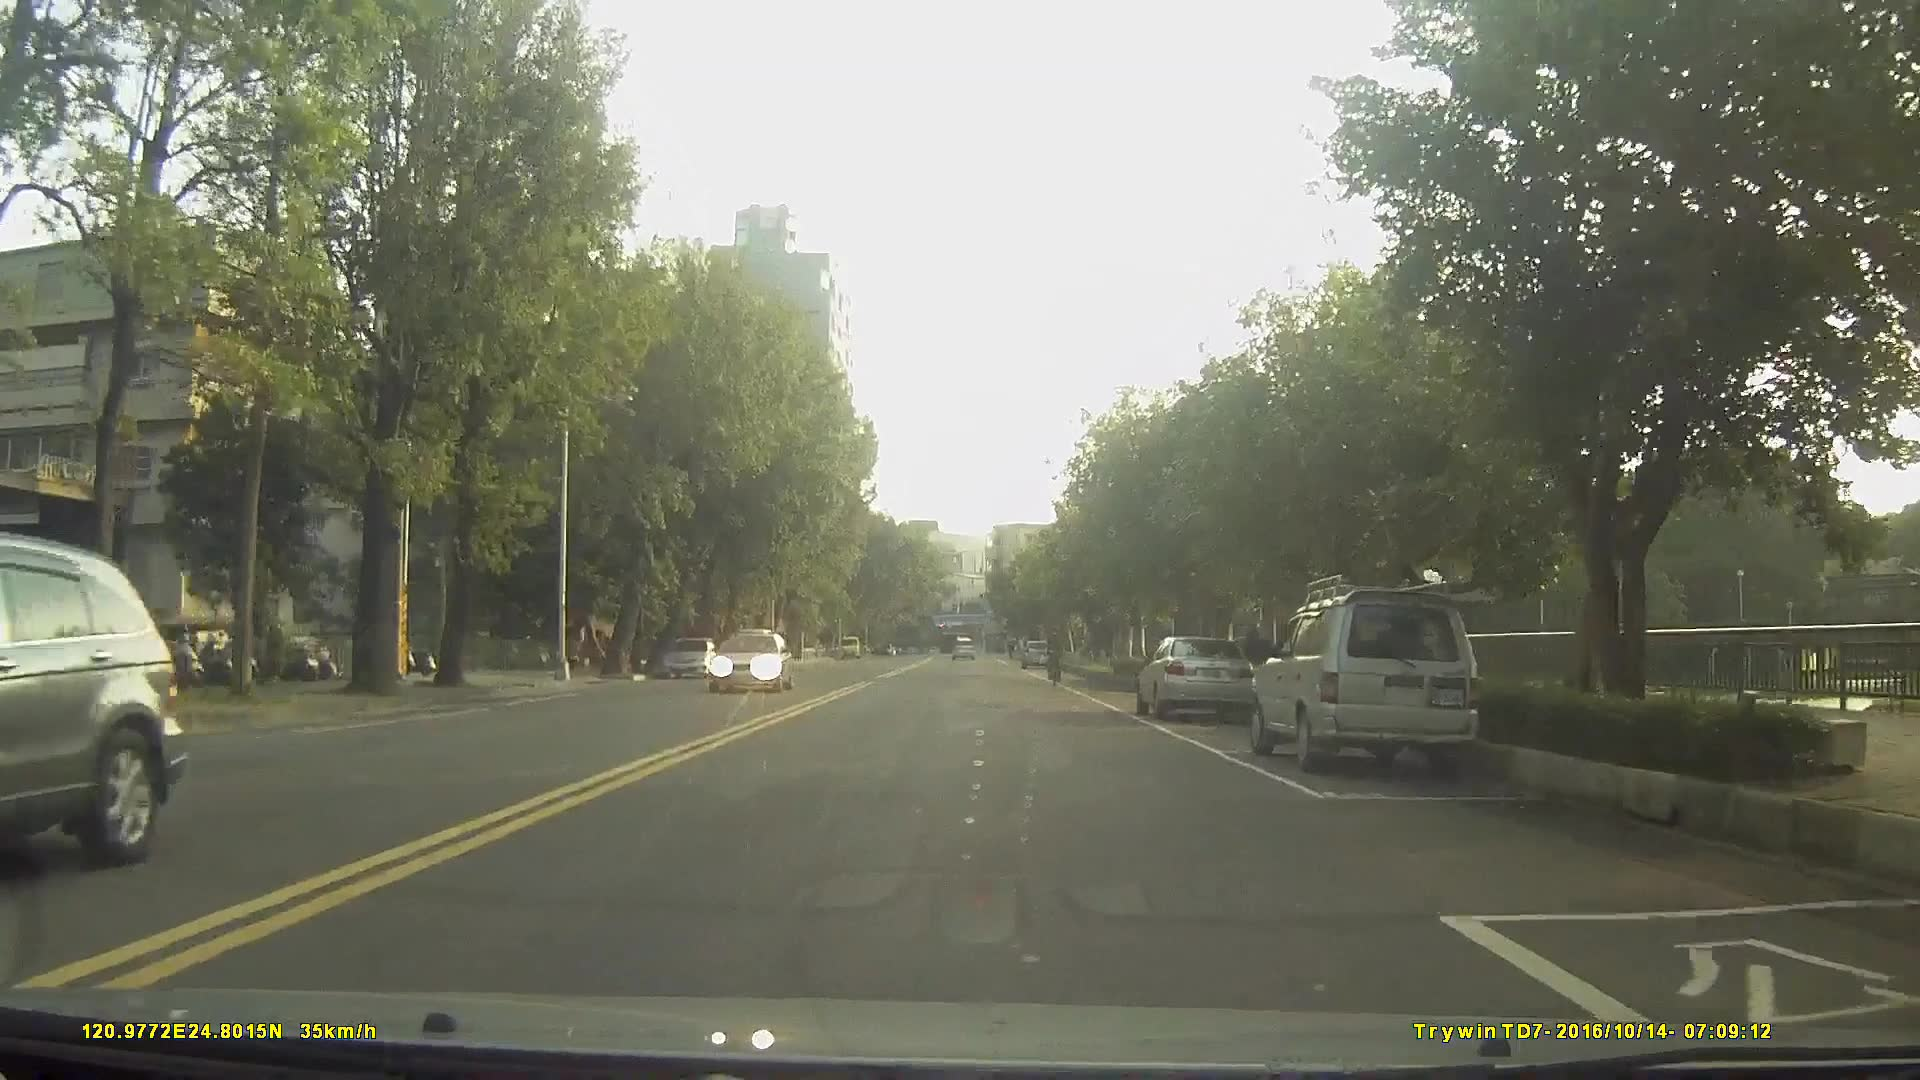rider: (1046, 624, 1068, 692)
vehicle: (0, 533, 180, 868), (1245, 584, 1482, 778), (1137, 632, 1262, 726), (704, 627, 796, 692), (659, 634, 717, 678), (728, 631, 774, 675), (1019, 636, 1051, 669), (947, 635, 975, 662)
